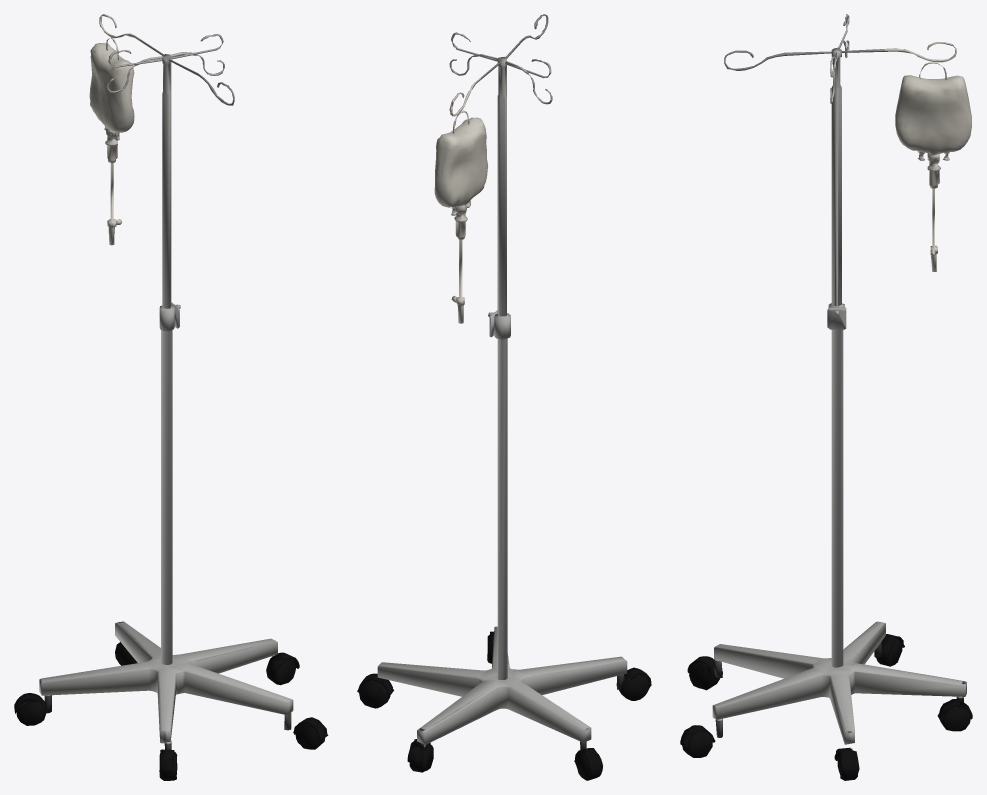
File: upa_soro.glb
3 views of the same model, side by side, from view 1: azimuth 30°, elevation 25°; view 2: azimuth 150°, elevation 25°; view 3: azimuth 270°, elevation 25° (orthographic).
Visible parts, largest first — view 1: upa_soro – IV Pole; view 2: upa_soro – IV Pole; view 3: upa_soro – IV Pole.
Boxes of the visible parts, x1,y1,x2,y2 form: upa_soro – IV Pole: (14,14,328,780); upa_soro – IV Pole: (357,14,651,780); upa_soro – IV Pole: (680,14,972,780).
Bounding box in the file's own units: 0.7697 × 1.9 × 0.7399.
Materials: 1 (1 with a texture image).
